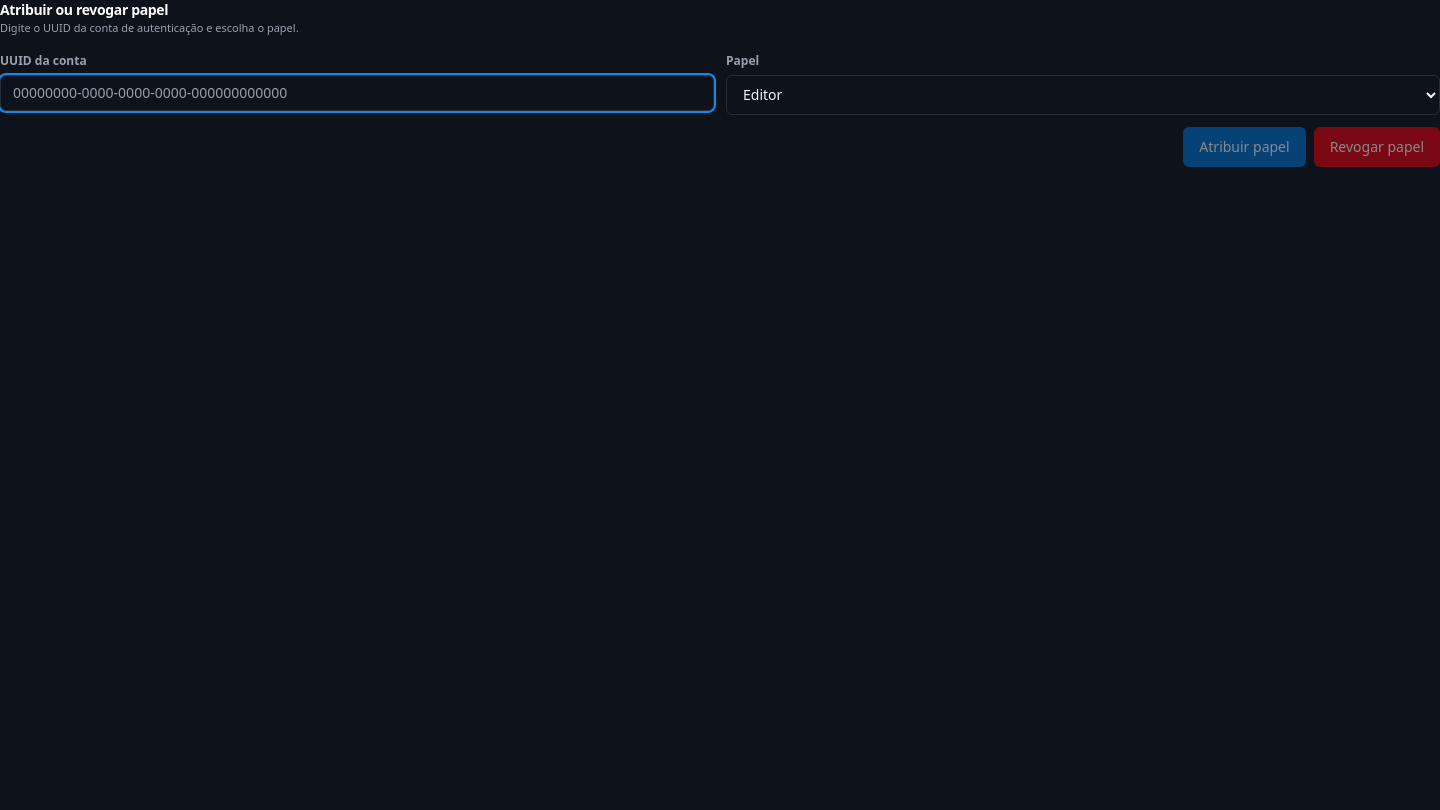
Scenario: UsuariosForm › fecha o dialogo com a tecla Escape sem disparar requisicao (usuarios/AC-7)
The width and height of the screenshot is (1440, 810).
Type "00000000-0000-4000-8000-000000000002" into the field labelled "UUID da conta". click: {"x": 357, "y": 92}
box: 0,74 -> 714,110
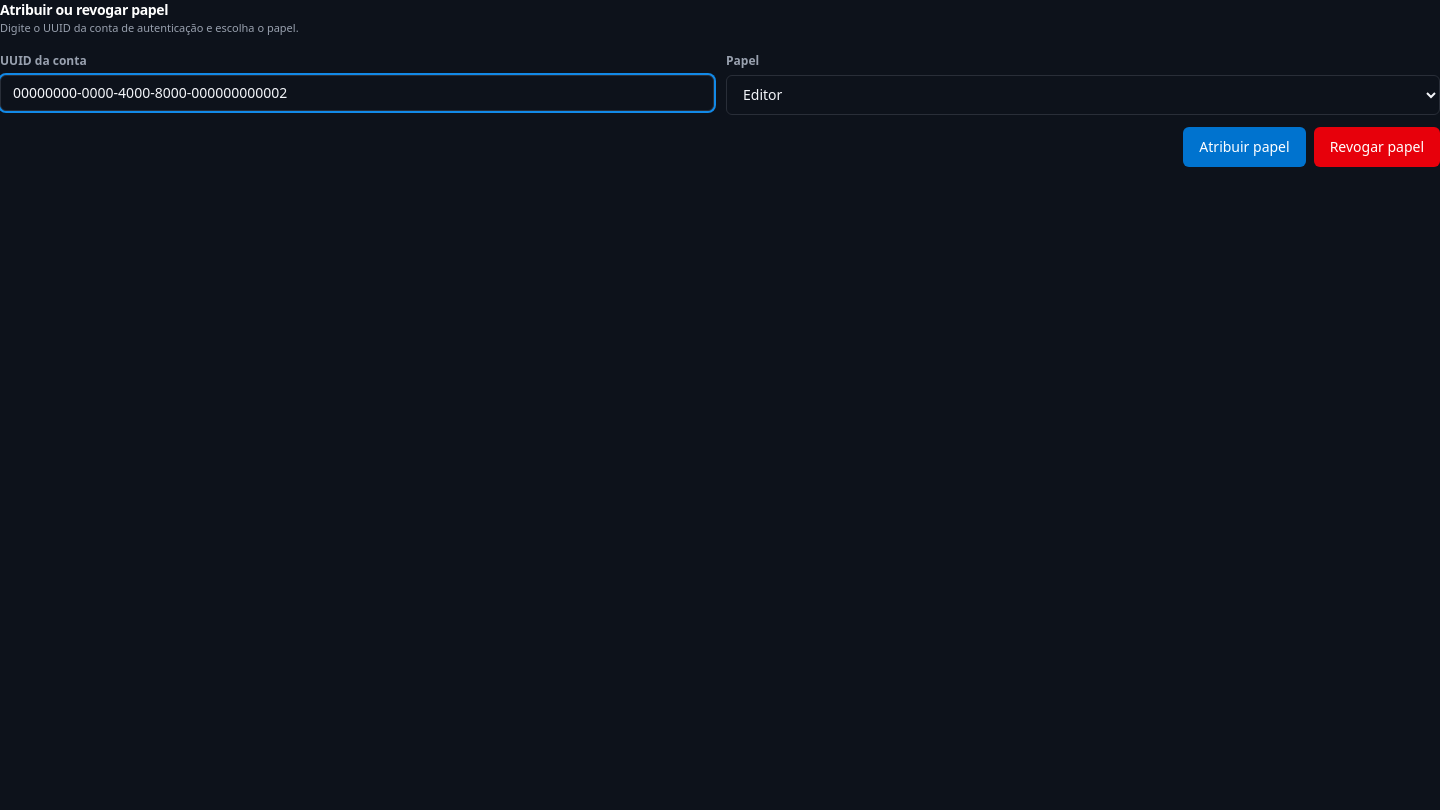
Click the button "Atribuir papel". click: {"x": 1244, "y": 146}
box: 1183,126 -> 1306,166
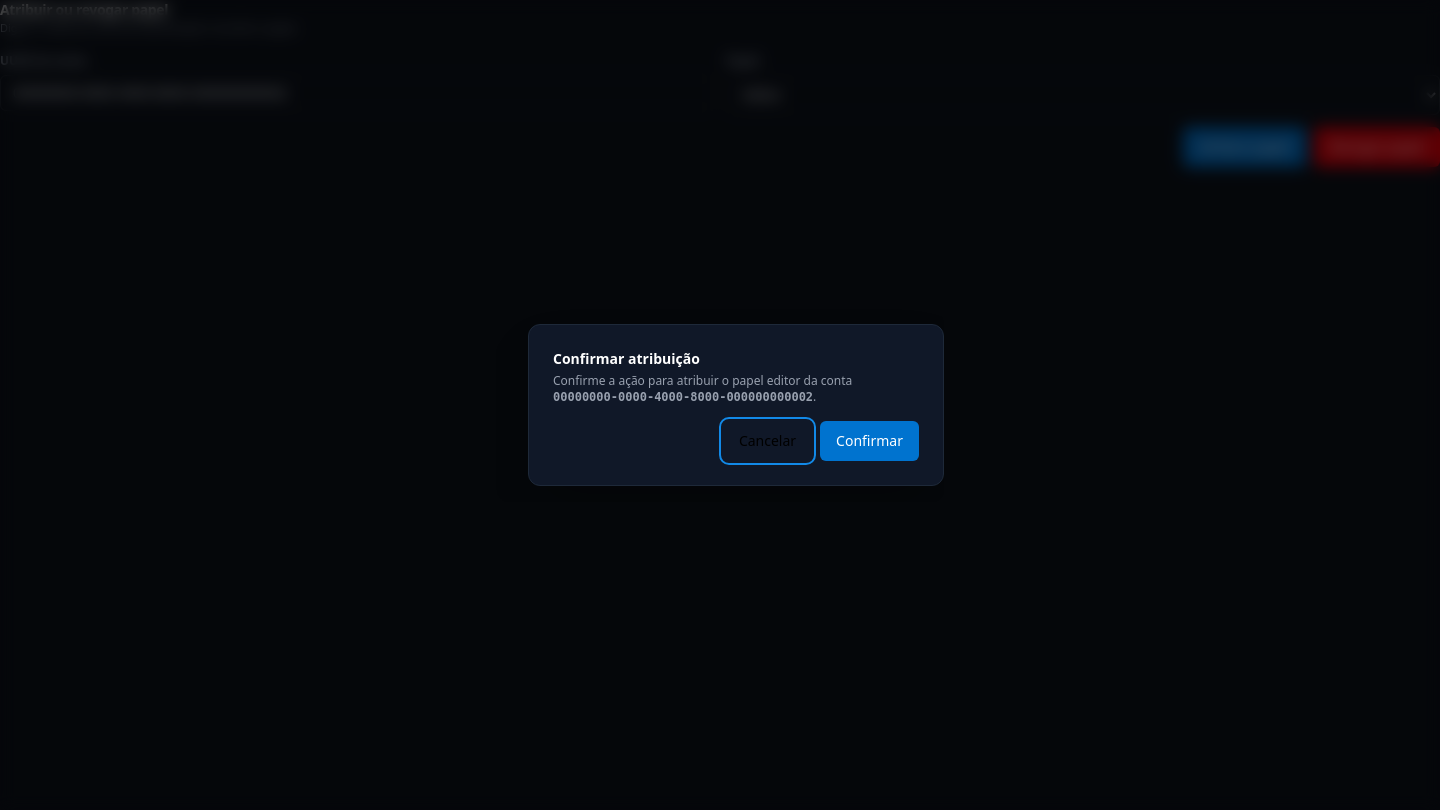
Expected: the dialog is shown, 496,308 -> 944,502
Press Escape
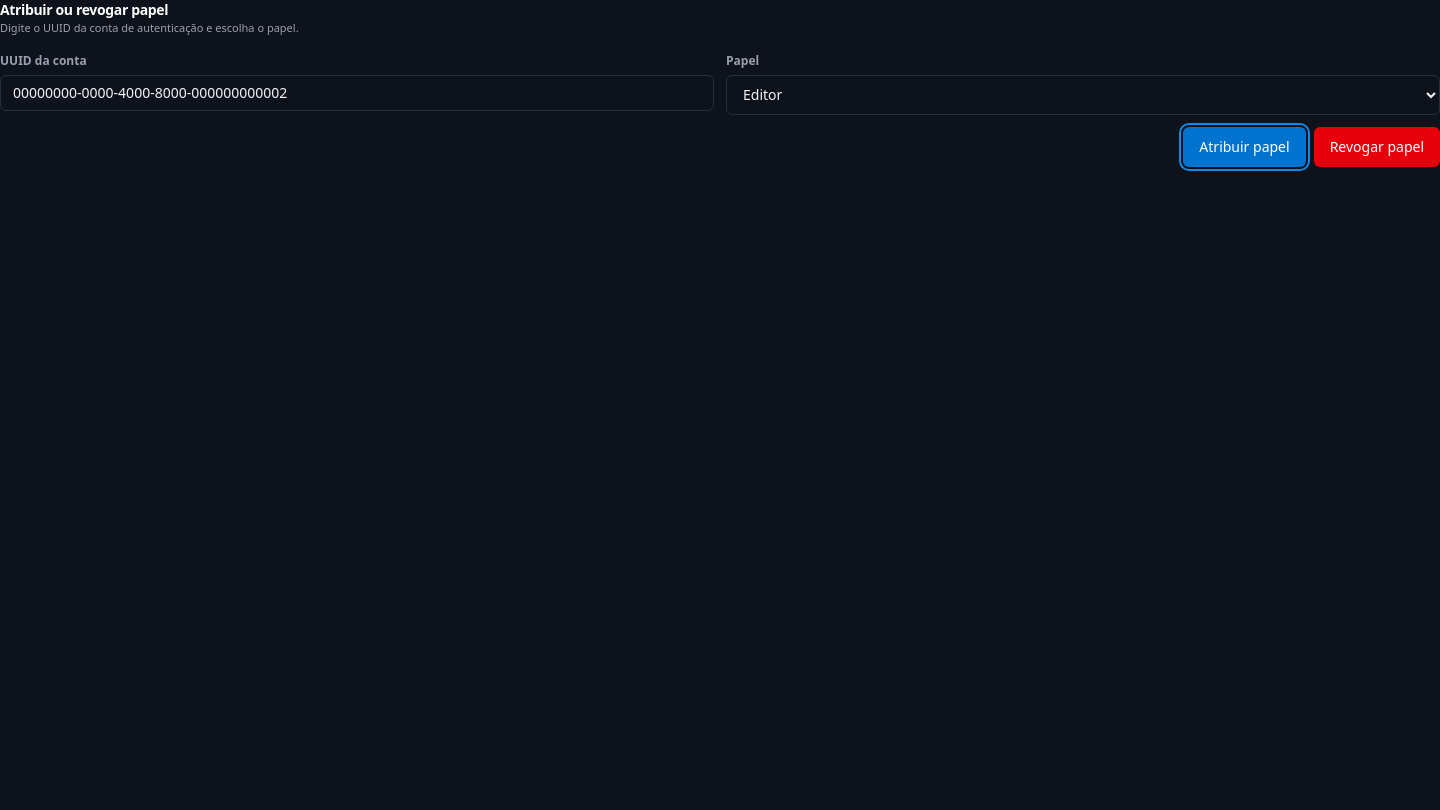
Expected: the dialog is gone
